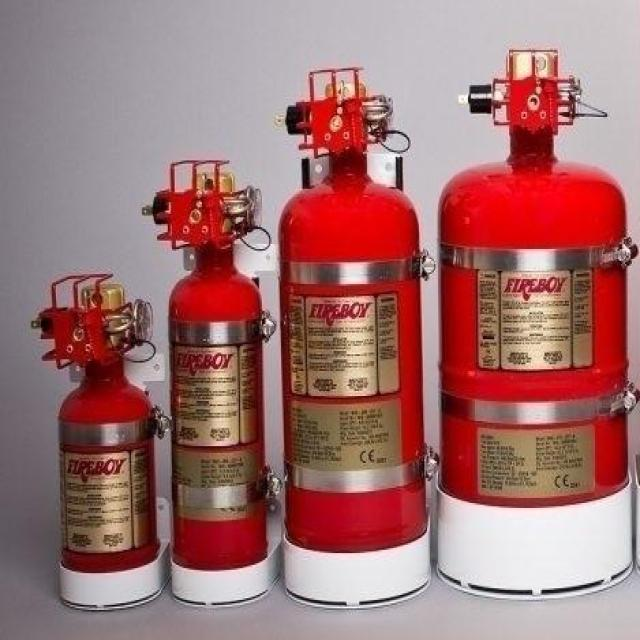fire_extinguisher: (431, 45, 632, 592), (275, 62, 428, 603), (134, 153, 274, 602), (29, 265, 160, 601)
